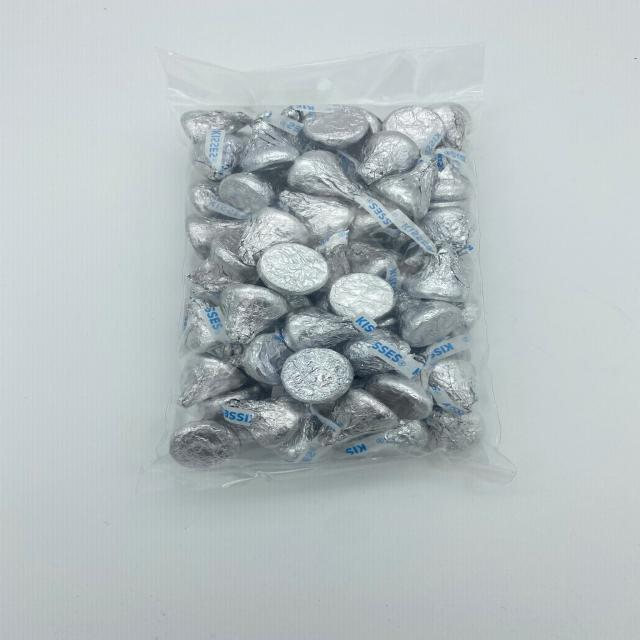kisses: (278, 184, 366, 242), (275, 308, 373, 358), (217, 281, 284, 352), (228, 204, 302, 268), (318, 387, 395, 448), (278, 346, 356, 406), (223, 394, 308, 446), (398, 247, 476, 302), (378, 147, 441, 215), (357, 131, 422, 193), (282, 150, 368, 195), (171, 418, 241, 472), (261, 242, 331, 293), (430, 351, 485, 414), (239, 117, 297, 176), (184, 357, 246, 412), (310, 107, 378, 156), (392, 297, 464, 343), (367, 375, 445, 417), (185, 297, 238, 356), (330, 275, 398, 320), (421, 207, 477, 258), (218, 174, 286, 210)
